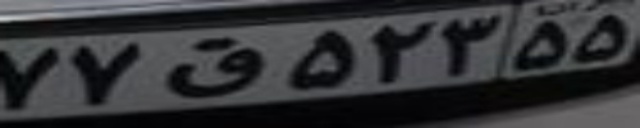2: (369, 20, 434, 84)
3: (441, 15, 499, 76)
5: (285, 30, 355, 88), (570, 13, 628, 63), (515, 19, 566, 70)
7: (71, 42, 147, 106), (0, 43, 61, 110)
ghaf: (161, 36, 265, 99)
